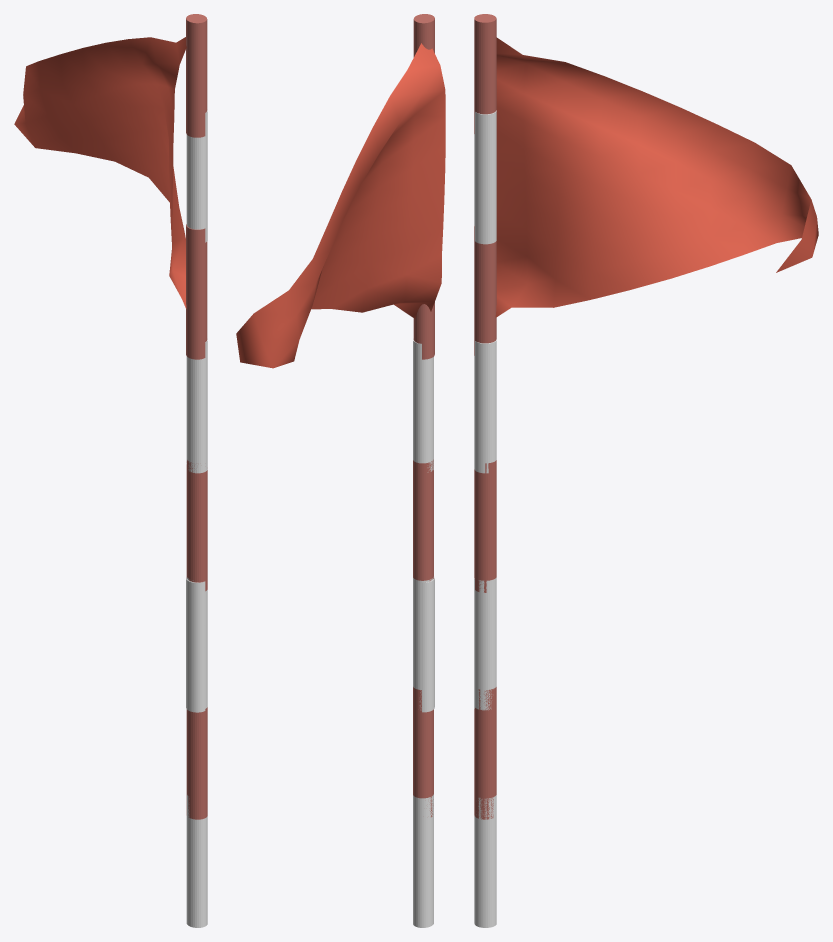
Rendered from flag.fbx.
The picture shows the model from 3 angles, left to right: view 1: azimuth 30°, elevation 25°; view 2: azimuth 150°, elevation 25°; view 3: azimuth 270°, elevation 25°; orthographic projection.
Visible parts, largest first — view 1: Cone, Cylinder9, Cylinder8, Cylinder10, Cylinder4, Cylinder3, Cylinder, Cylinder1, Cylinder6; view 2: Cone, Cylinder, Cylinder3, Cylinder4, Cylinder1, Cylinder10, Cylinder2, Cylinder9, Cylinder8; view 3: Cone, Cylinder6, Cylinder4, Cylinder, Cylinder3, Cylinder1, Cylinder2, Cylinder9, Cylinder8.
Part boxes in pixels (<box>): Cone: <box>14,37,186,308</box>; Cylinder9: <box>186,224,207,359</box>; Cylinder8: <box>186,14,207,137</box>; Cylinder10: <box>186,577,205,712</box>; Cylinder4: <box>186,338,207,473</box>; Cylinder3: <box>186,460,207,591</box>; Cylinder: <box>186,795,207,927</box>; Cylinder1: <box>186,707,207,819</box>; Cylinder6: <box>186,109,207,242</box>; Cone: <box>236,43,445,368</box>; Cylinder: <box>413,794,433,927</box>; Cylinder3: <box>413,459,433,581</box>; Cylinder4: <box>413,338,433,472</box>; Cylinder1: <box>413,687,433,817</box>; Cylinder10: <box>422,576,434,712</box>; Cylinder2: <box>413,577,433,710</box>; Cylinder9: <box>413,302,434,359</box>; Cylinder8: <box>413,14,434,57</box>; Cone: <box>495,37,818,317</box>; Cylinder6: <box>474,110,496,244</box>; Cylinder4: <box>474,339,496,473</box>; Cylinder: <box>474,795,496,927</box>; Cylinder3: <box>474,460,496,592</box>; Cylinder1: <box>474,687,496,819</box>; Cylinder2: <box>475,577,496,710</box>; Cylinder9: <box>474,226,496,355</box>; Cylinder8: <box>474,14,496,133</box>.
Bounding box in the file's own units: 19.78 × 243 × 83.89.
